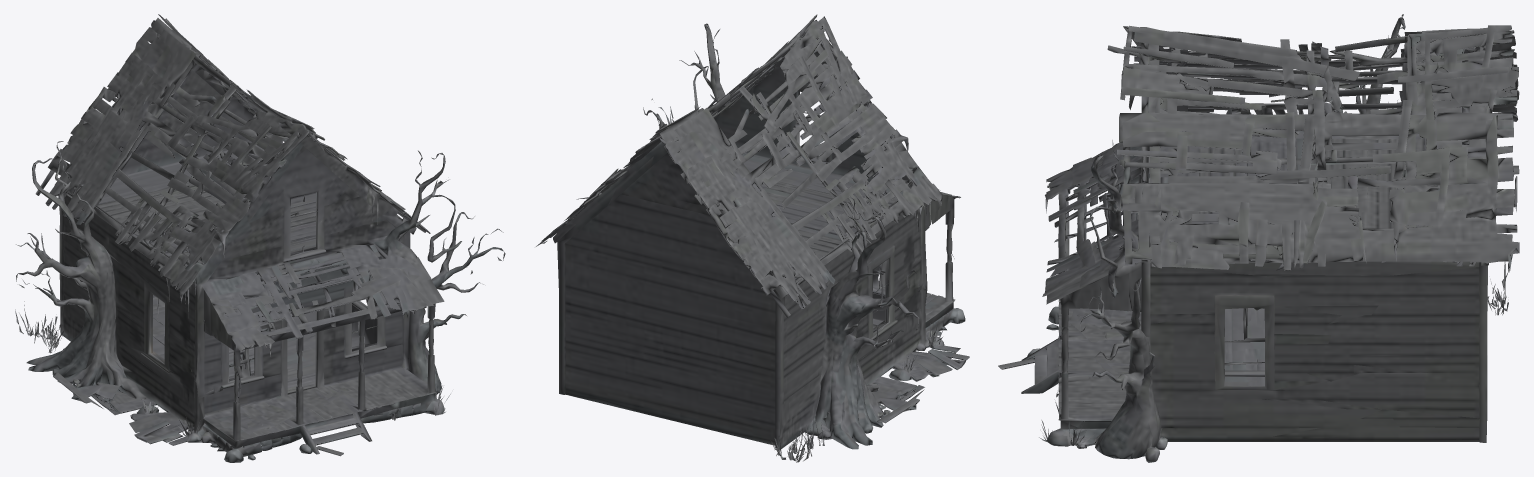
The model's file is house-candle.glb.
3 renders of one model, left to right at view 1: azimuth 30°, elevation 25°; view 2: azimuth 150°, elevation 25°; view 3: azimuth 270°, elevation 25°, orthographic. The views are drawn at different scales.
Visible parts, largest first — view 1: house; view 2: house; view 3: house.
Part boxes in pixels (box(x1,y1,x2,y2)): house: box(15, 14, 505, 462); house: box(536, 14, 969, 462); house: box(998, 14, 1519, 462).
Bounding box in the file's own units: 1.81 × 1.34 × 1.76.
Materials: 1 (1 with a texture image).
